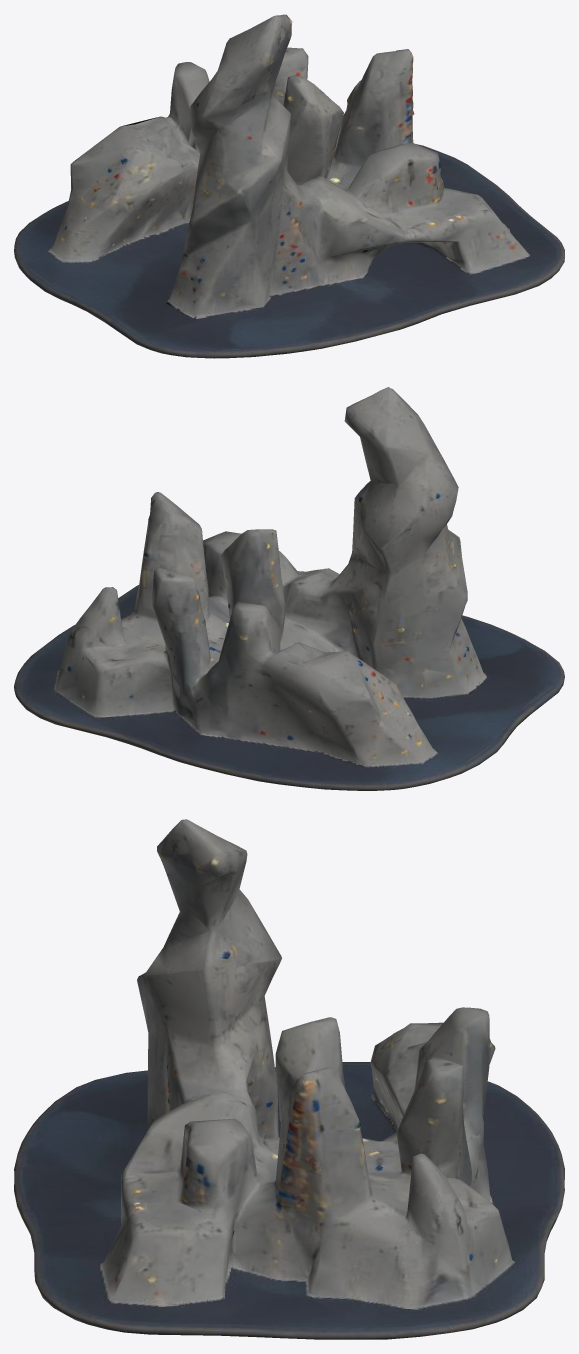
Rendered from maggie_climbing_wall.glb.
The picture shows the model from 3 angles, top to bottom: view 1: azimuth 30°, elevation 25°; view 2: azimuth 150°, elevation 25°; view 3: azimuth 270°, elevation 25°; orthographic projection. The views are drawn at different scales.
Visible parts, largest first — view 1: maggie_climbing_wall; view 2: maggie_climbing_wall; view 3: maggie_climbing_wall.
Part boxes in pixels (left/top/right/bottom): maggie_climbing_wall: left=14, top=14, right=564, bottom=358; maggie_climbing_wall: left=14, top=387, right=564, bottom=790; maggie_climbing_wall: left=14, top=819, right=564, bottom=1339.
Size of the model in its own units: 20 by 12 by 17.
1 material, 1 textured.
